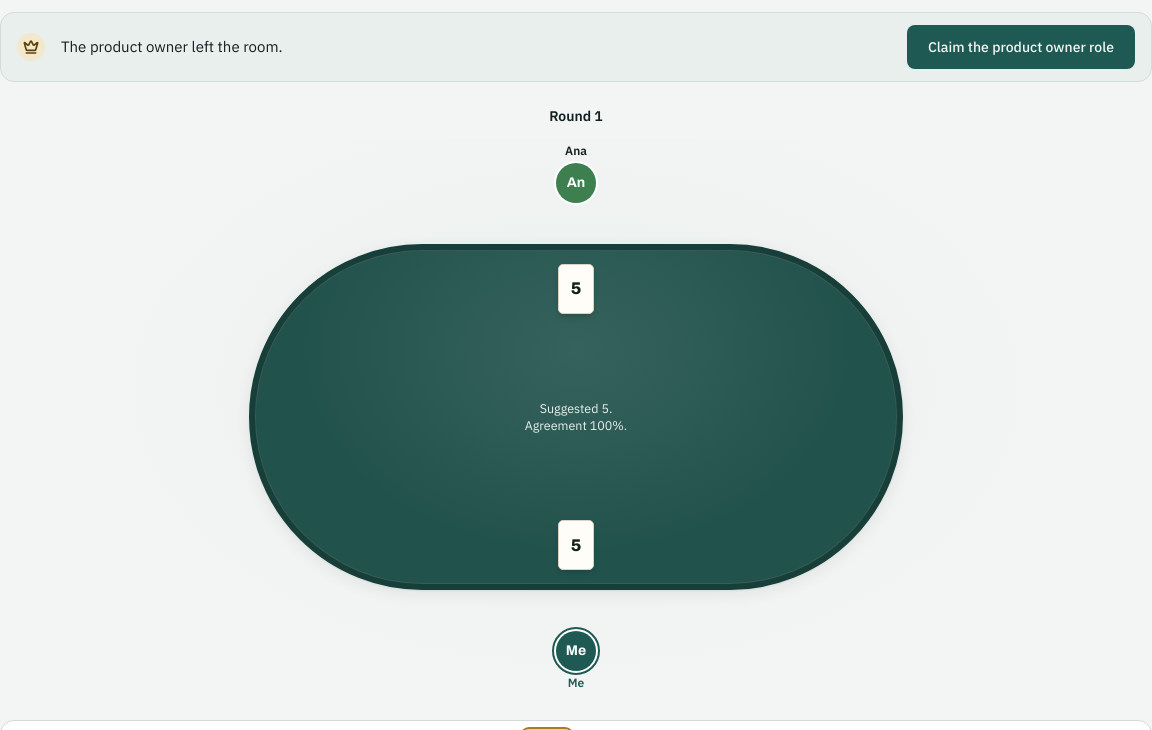
Test: the claim banner › after a reveal, claims and moves the focus to the decision bar
Click the button "Claim the product owner role" at (1021, 47), box top-left (907, 25), bottom-right (1135, 69)
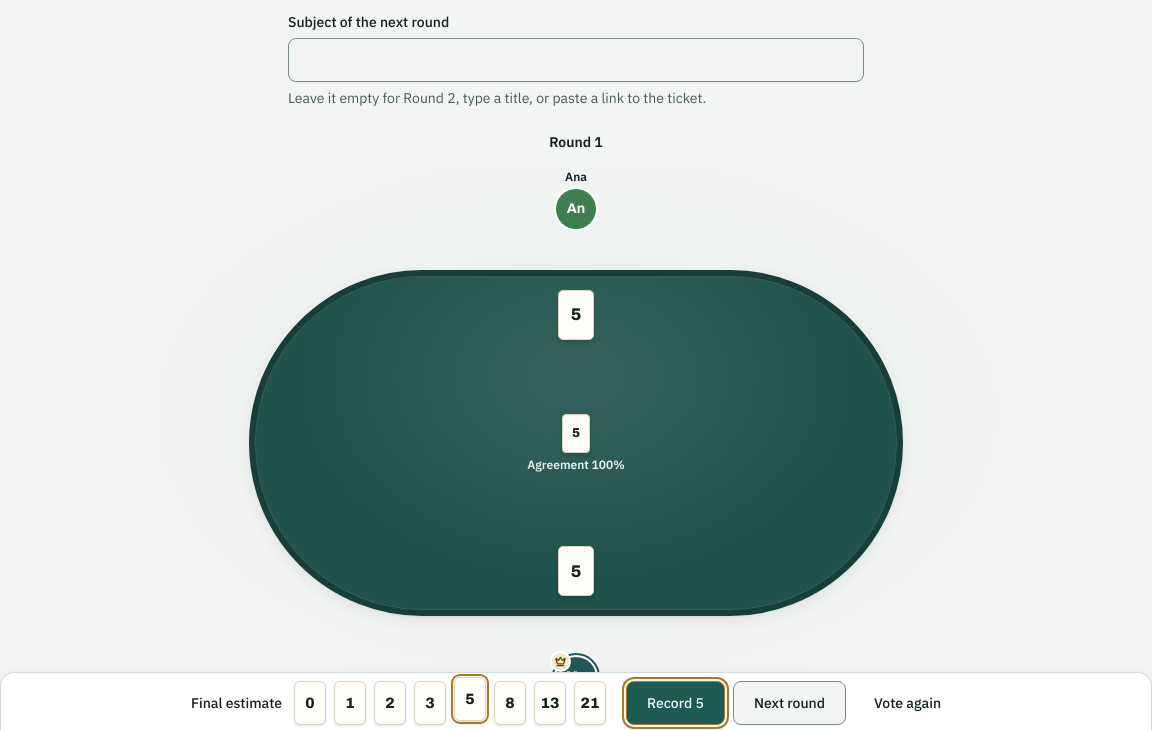
expect the button "Claim the product owner role" is gone: met
expect the button "Record 5" is shown: met, box top-left (626, 681), bottom-right (725, 725)
